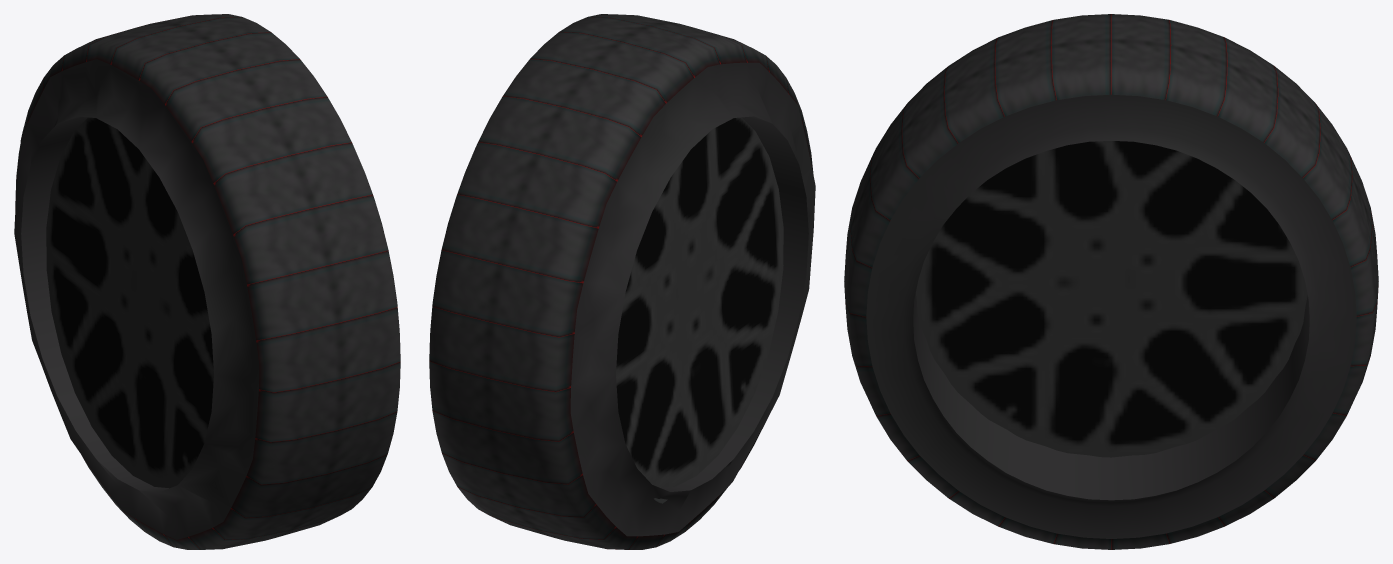
Rendered from Vehicles_DodgeCC_Wheel.fbx.
3 renders of one model, left to right at view 1: azimuth 30°, elevation 25°; view 2: azimuth 150°, elevation 25°; view 3: azimuth 270°, elevation 25°, orthographic.
Parts seen in each view (by area): view 1: kolo.002; view 2: kolo.002; view 3: kolo.002.
Part boxes in pixels (x1,y1,x2,y2): kolo.002: (14,14,400,549); kolo.002: (429,14,815,549); kolo.002: (844,14,1378,549).
Bounding box in the file's own units: 0.2269 × 0.6164 × 0.6164.
